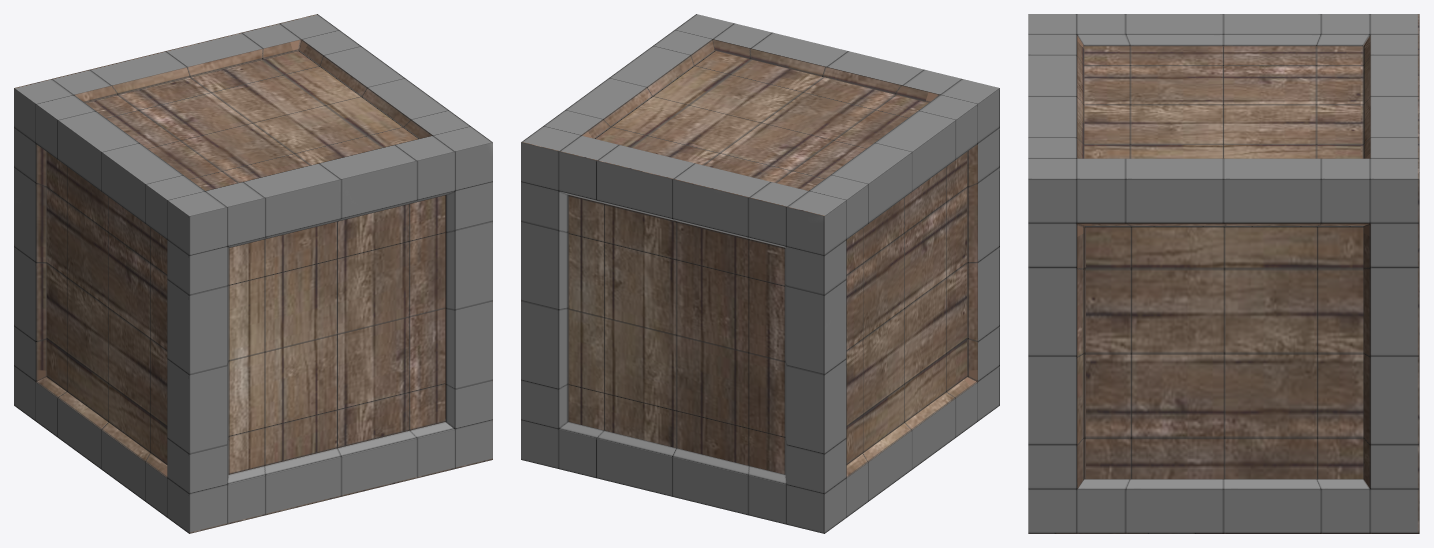
File: laatikko.fbx
3 views of the same model, side by side, from view 1: azimuth 30°, elevation 25°; view 2: azimuth 150°, elevation 25°; view 3: azimuth 270°, elevation 25° (orthographic). The views are drawn at different scales.
Parts seen in each view (by area): view 1: Cube, Cube.001; view 2: Cube, Cube.001; view 3: Cube, Cube.001.
Part boxes in pixels (x1,y1,x2,y2): Cube: [36, 39, 454, 477]; Cube.001: [14, 14, 492, 533]; Cube: [560, 39, 977, 482]; Cube.001: [521, 14, 999, 533]; Cube: [1077, 34, 1370, 488]; Cube.001: [1028, 14, 1419, 533].
Bounding box in the file's own units: 200 × 200 × 200.
